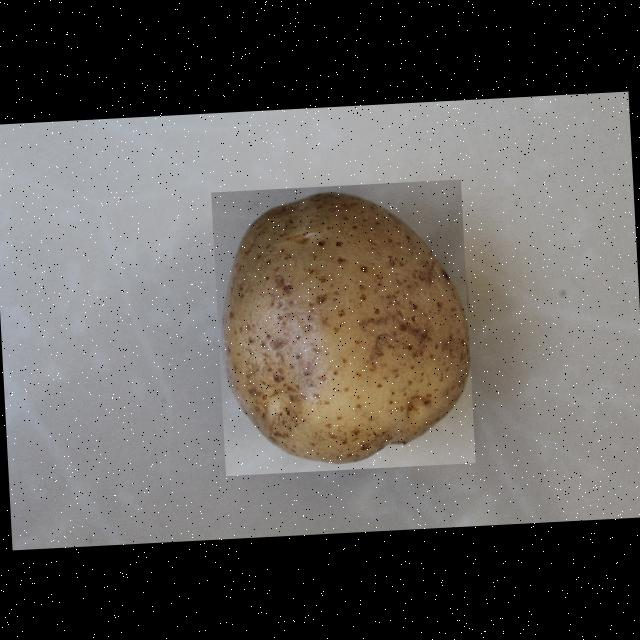Diseased-fungal potato: (210, 178, 475, 476)
